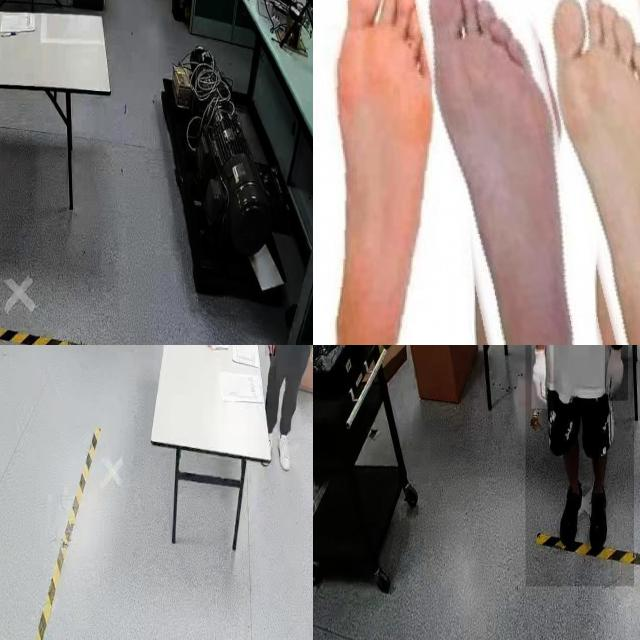Barefoots: (426, 0, 582, 345), (323, 0, 431, 345), (547, 0, 640, 345)
hand_glove: (531, 345, 554, 409), (605, 345, 628, 401)
hand_noglove: (264, 345, 275, 356), (310, 345, 313, 363)
person: (525, 345, 634, 587), (267, 345, 313, 439)
shoes: (583, 478, 611, 557), (556, 475, 582, 551), (275, 430, 293, 477)
